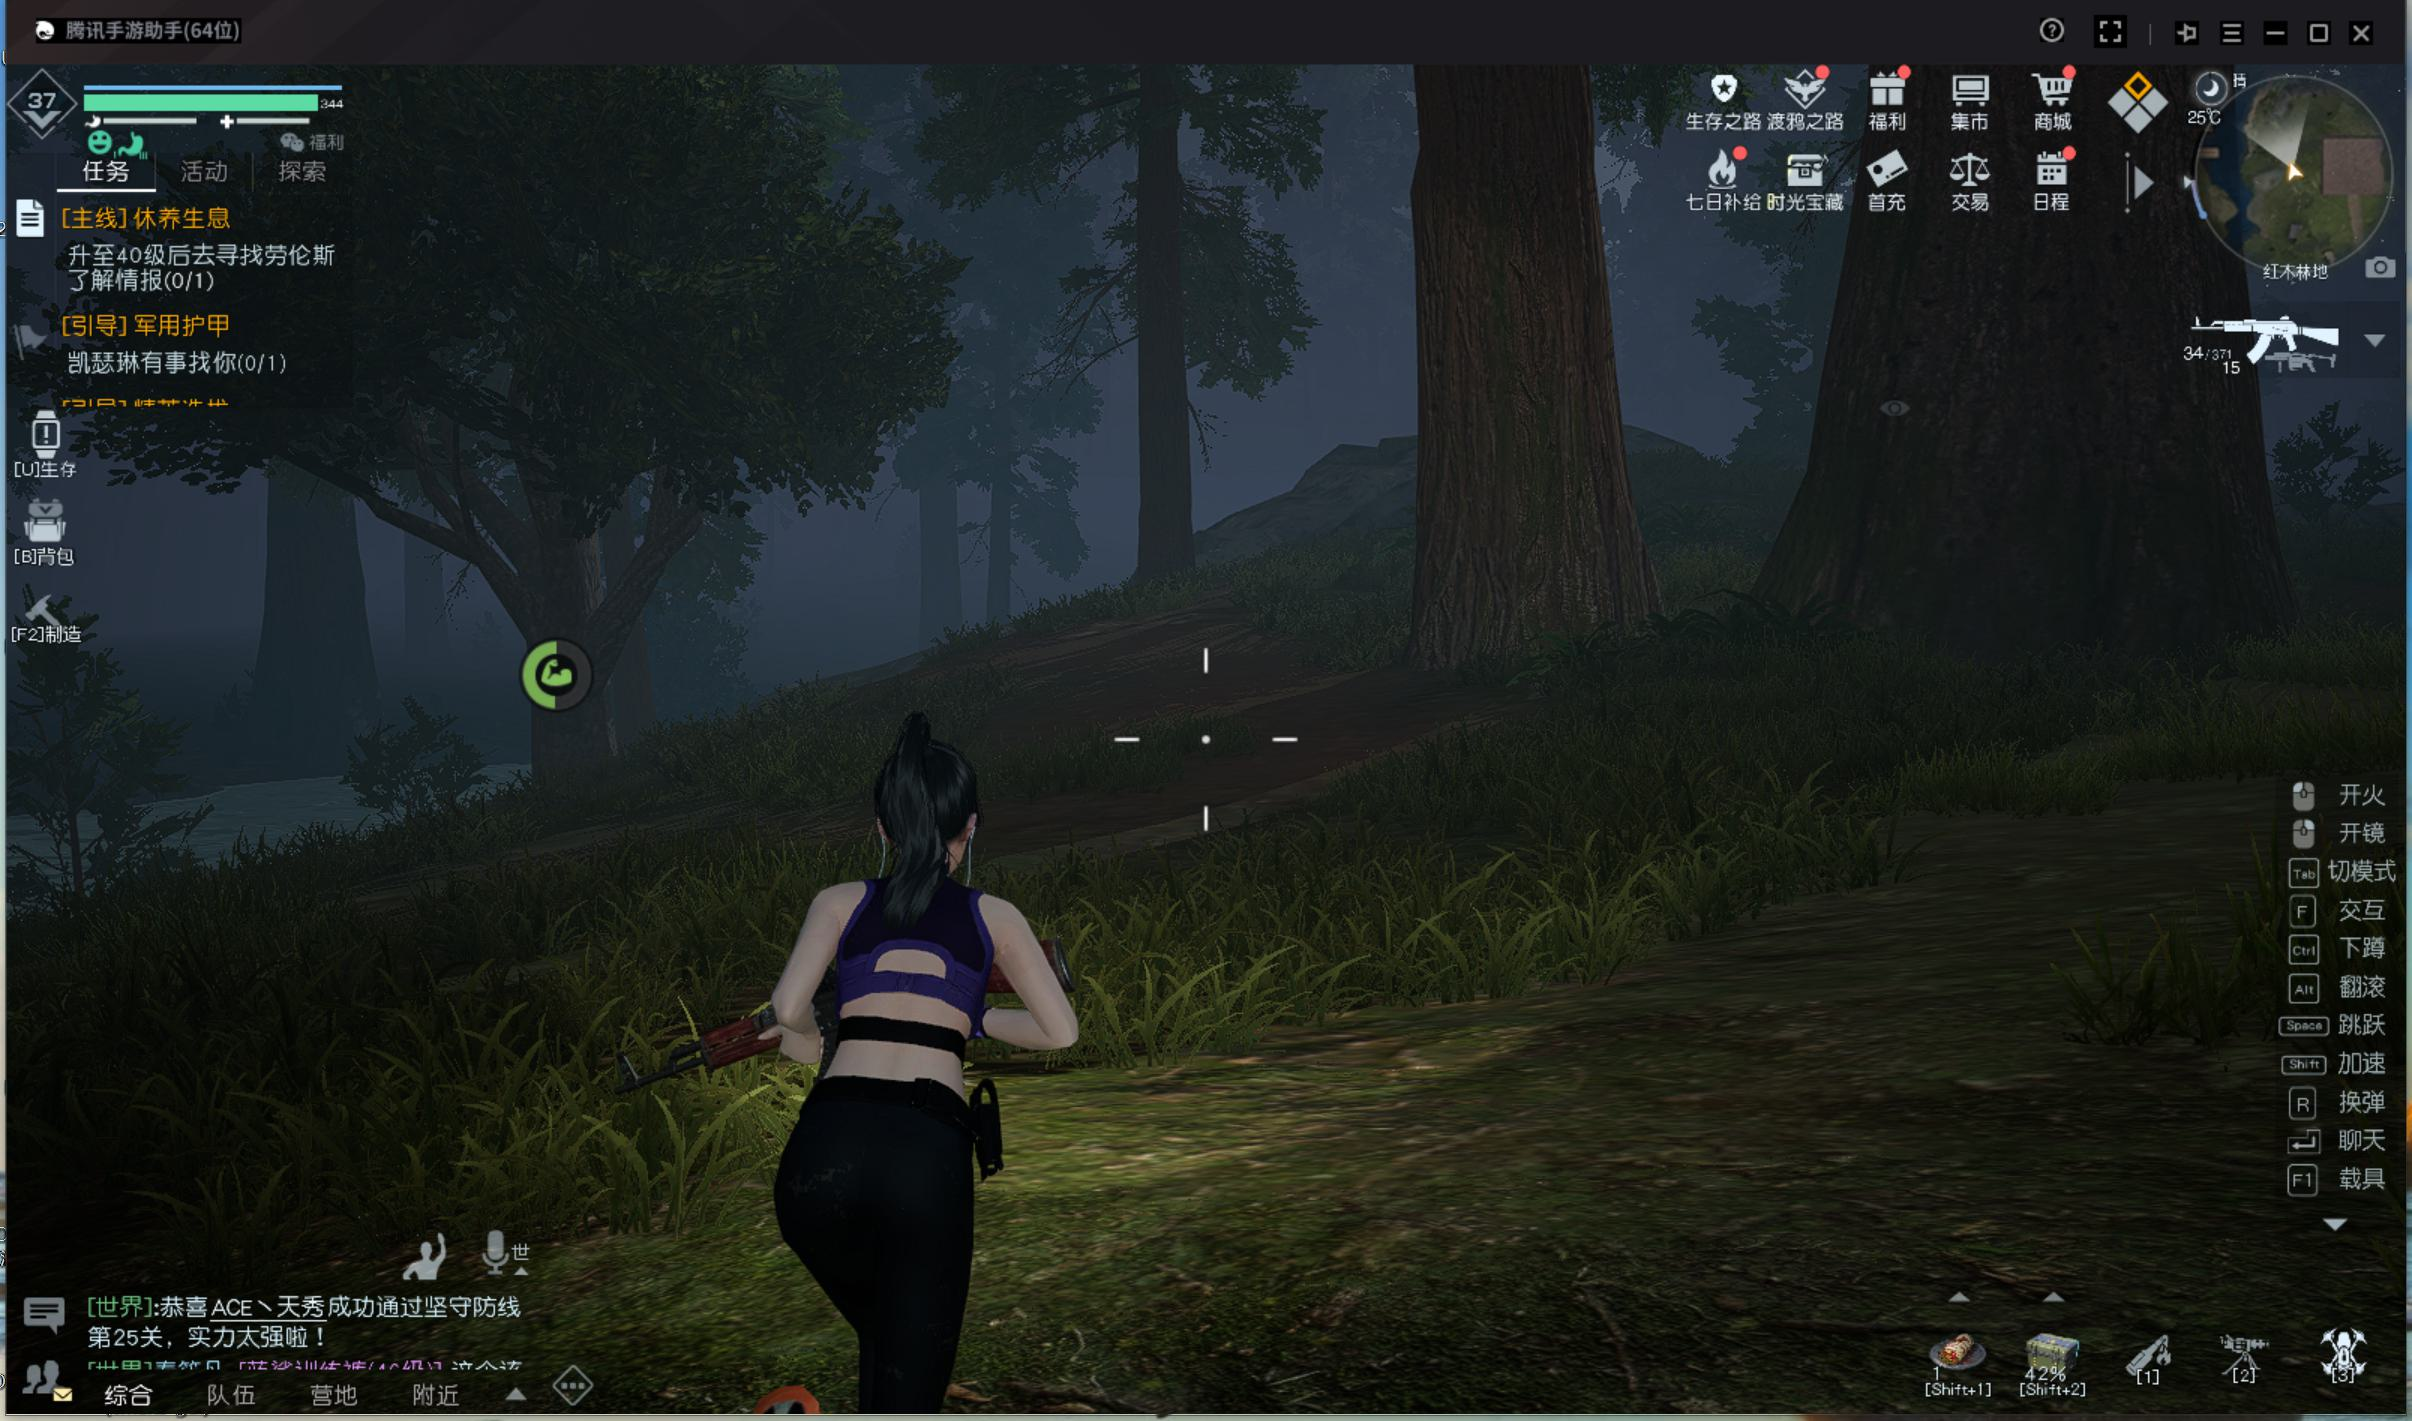tree: (1380, 129, 1661, 690), (1116, 225, 1206, 609), (511, 543, 614, 775), (978, 443, 1018, 646)
